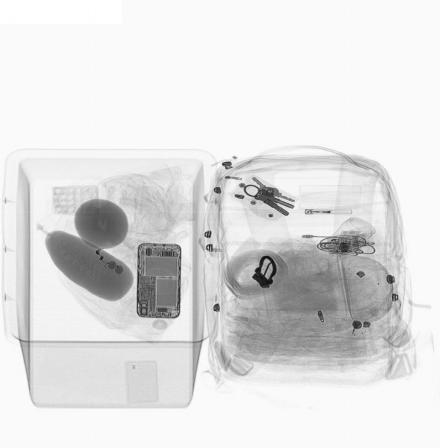Lighter: (304, 209, 353, 215)
